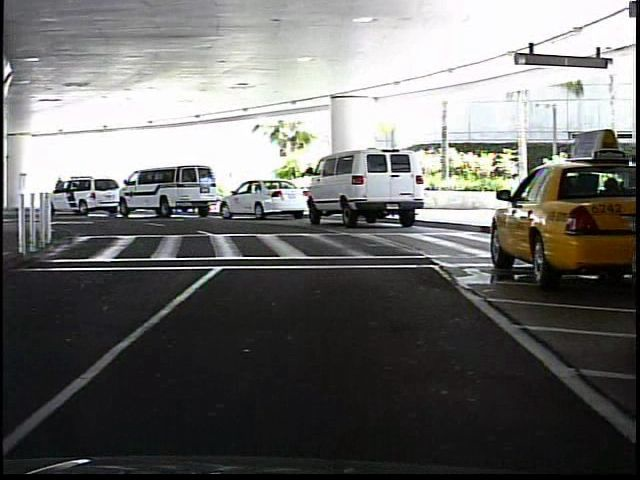person: (53, 175, 69, 211)
